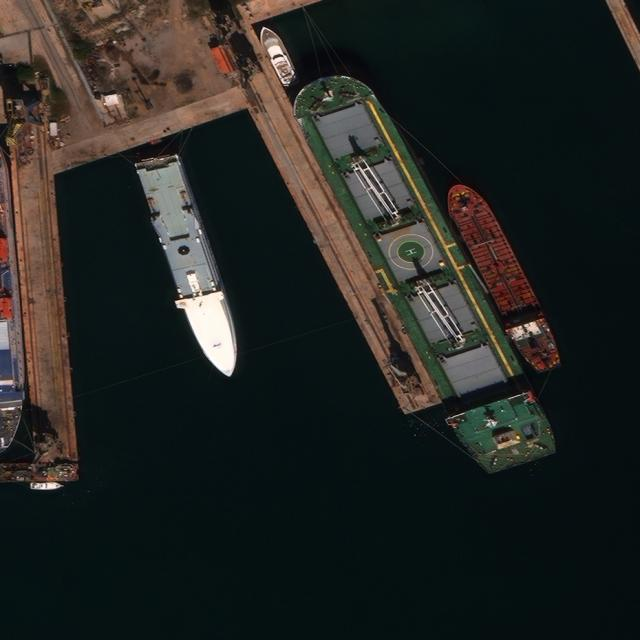Cargo: (280, 52, 568, 491)
Oil Tanker: (439, 173, 567, 381)
Other Ship: (130, 145, 251, 387), (1, 142, 32, 450)
Yacht: (254, 20, 302, 90)
